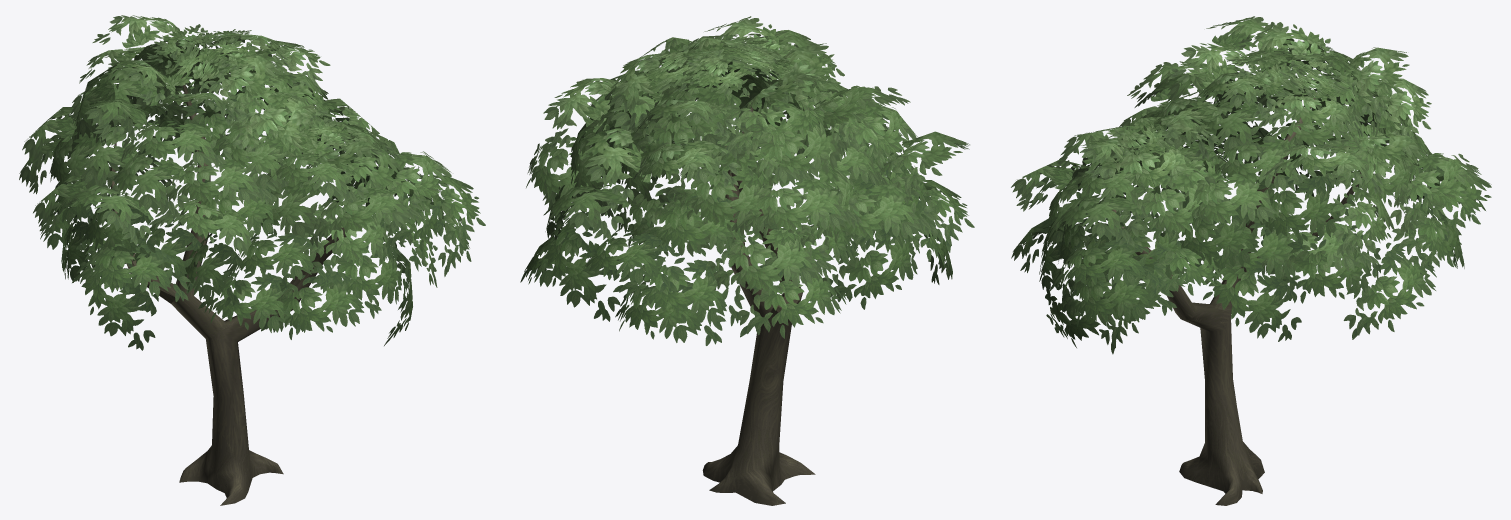
File: tree5.glb
3 renders of one model, left to right at view 1: azimuth 30°, elevation 25°; view 2: azimuth 150°, elevation 25°; view 3: azimuth 270°, elevation 25°, orthographic. The views are drawn at different scales.
Parts seen in each view (by area): view 1: 树4; view 2: 树4; view 3: 树4.
Boxes of the visible parts, <box> form: 树4: <box>19,15,485,505</box>; 树4: <box>520,16,974,505</box>; 树4: <box>1011,16,1491,505</box>.
Bounding box in the file's own units: 5.54 × 5.95 × 6.13.
Materials: 3 (3 with a texture image).
